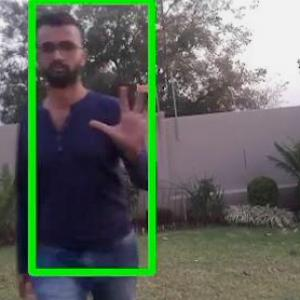follow_hand: (89, 81, 166, 151)
